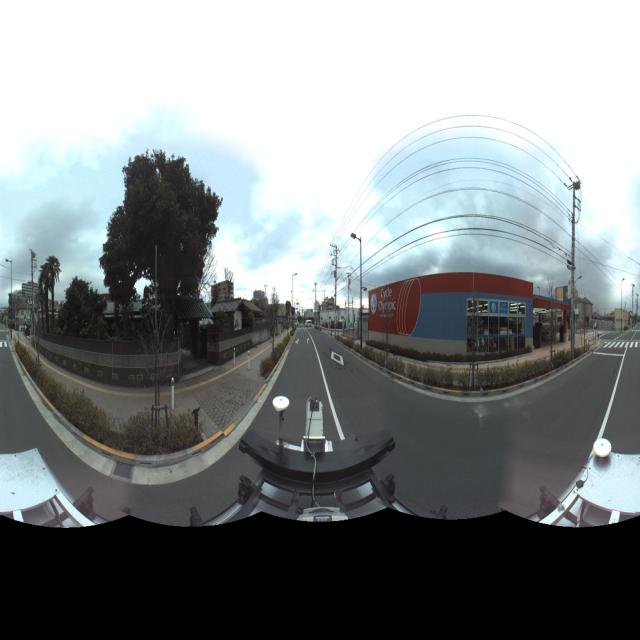b_1: (210, 268, 236, 325), (21, 274, 43, 319)
b_2: (91, 279, 209, 376)
